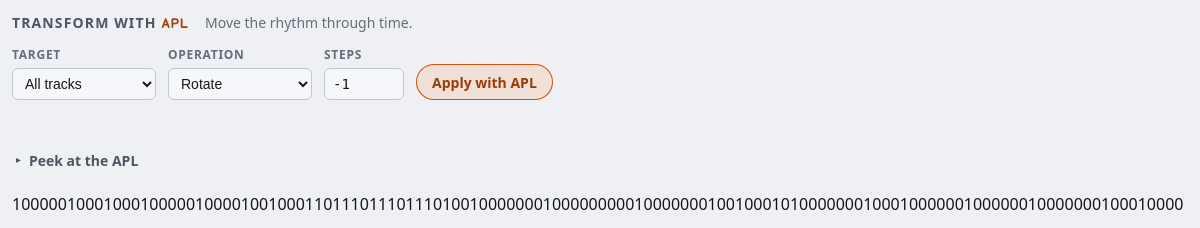
Scenario: when APL will not answer › leaves the beat alone and says so
The width and height of the screenshot is (1200, 228).
Click the button "Apply with APL".
click(484, 82)  # box [416,64,553,100]
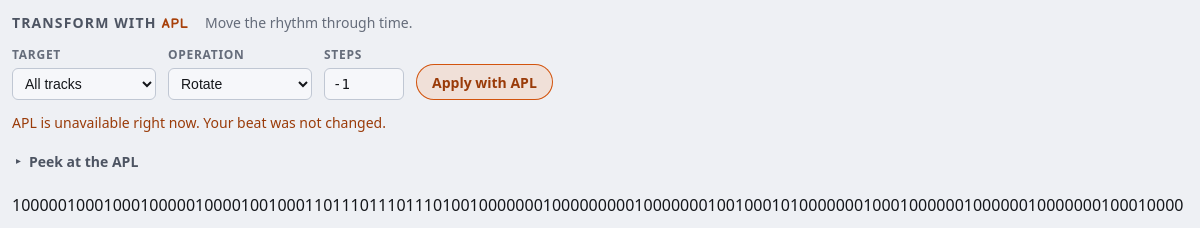
Check: the text "APL is unavailable right now. Your beat was not changed." is shown, box [12,113,386,132]
